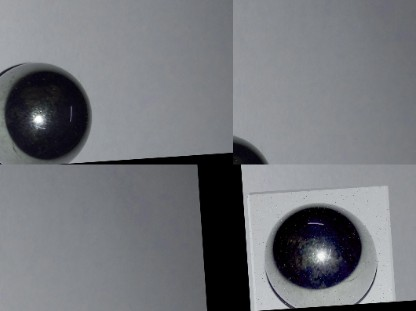ironball: (243, 188, 391, 311), (0, 60, 98, 164)
